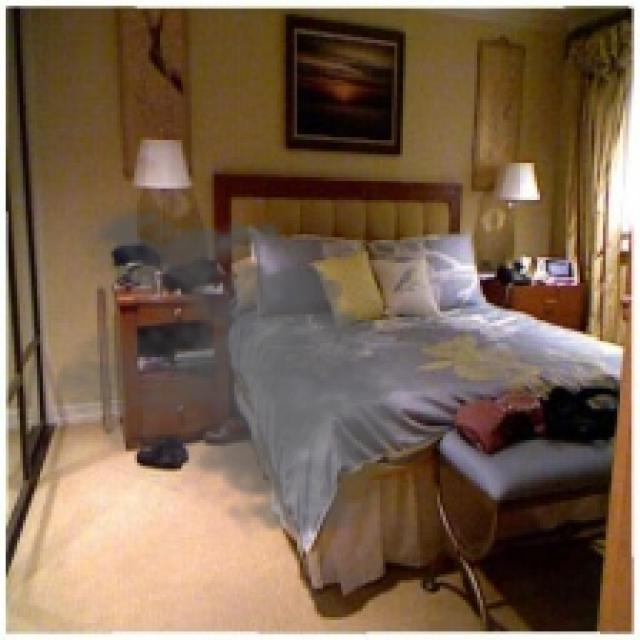smoke: (57, 197, 429, 543)
